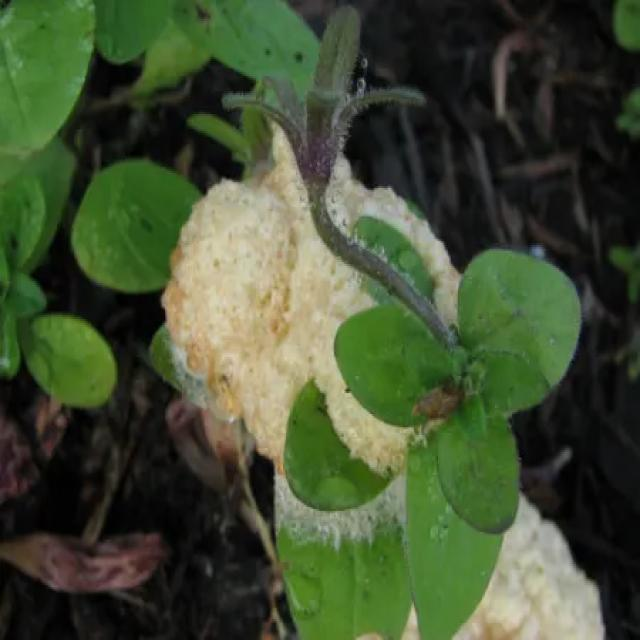Dog_vomit_slime_mold: (135, 106, 626, 640)
